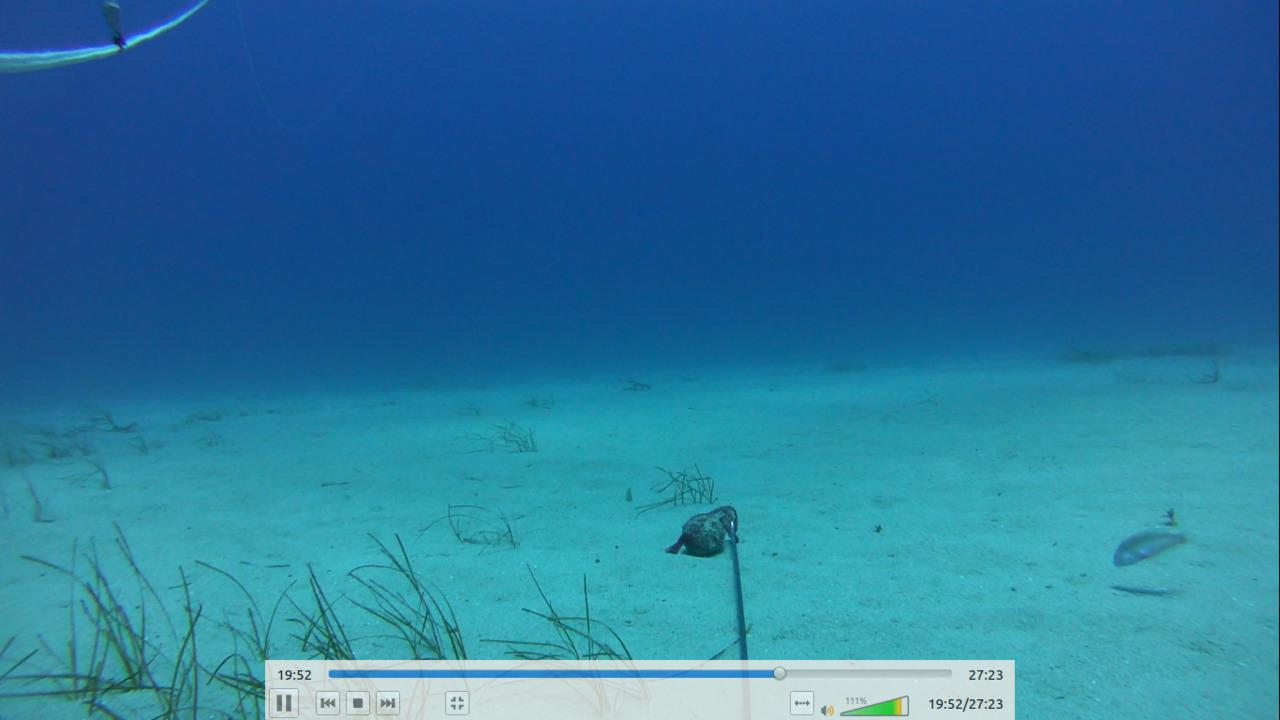raor: (1106, 523, 1191, 576)
